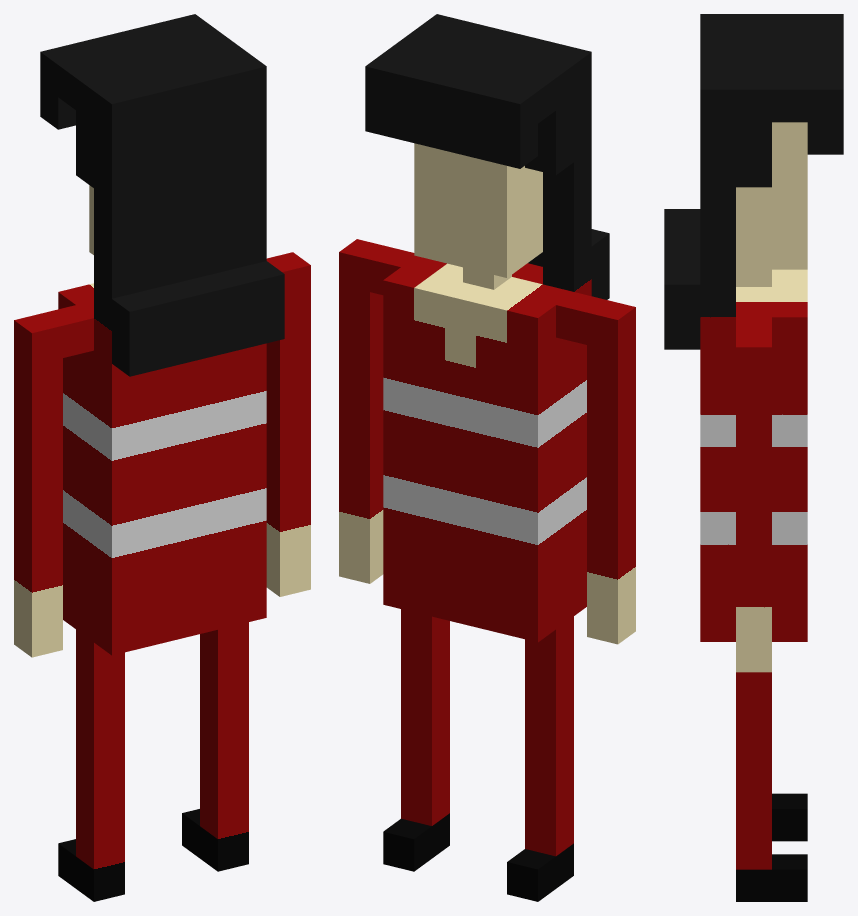
The model's file is Person4.dae.
3 renders of one model, left to right at view 1: azimuth 30°, elevation 25°; view 2: azimuth 150°, elevation 25°; view 3: azimuth 270°, elevation 25°, orthographic.
Visible parts, largest first — view 1: Person1; view 2: Person1; view 3: Person1.
Boxes of the visible parts, x1,y1,x2,y2 form: Person1: (14, 14, 310, 901); Person1: (339, 14, 635, 901); Person1: (664, 14, 843, 901).
Bounding box in the file's own units: 9 × 25 × 5.
1 material, 1 textured.
